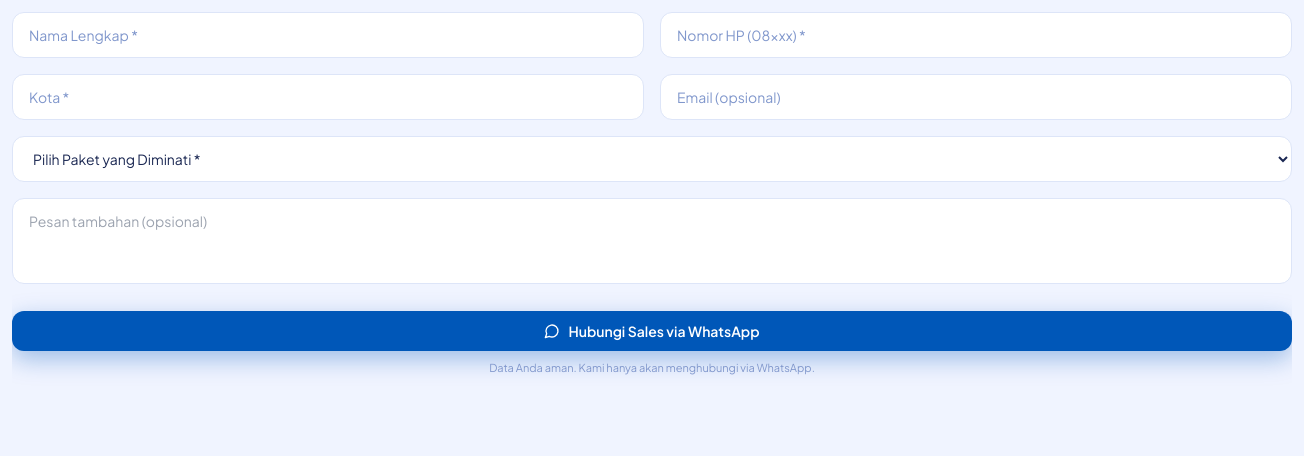
Test: LeadCaptureForm › shows validation errors on empty submit
Click the button "Hubungi Sales via WhatsApp". click: (652, 331)
box: [12,311,1292,351]
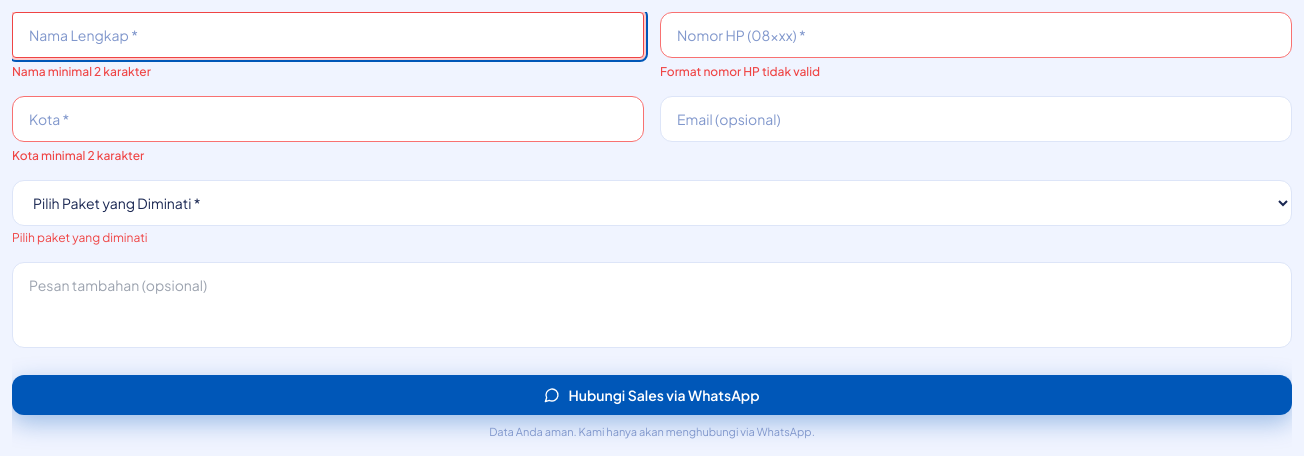
Check: the text "Nama minimal 2 karakter" is shown, box [12,64,151,79]
